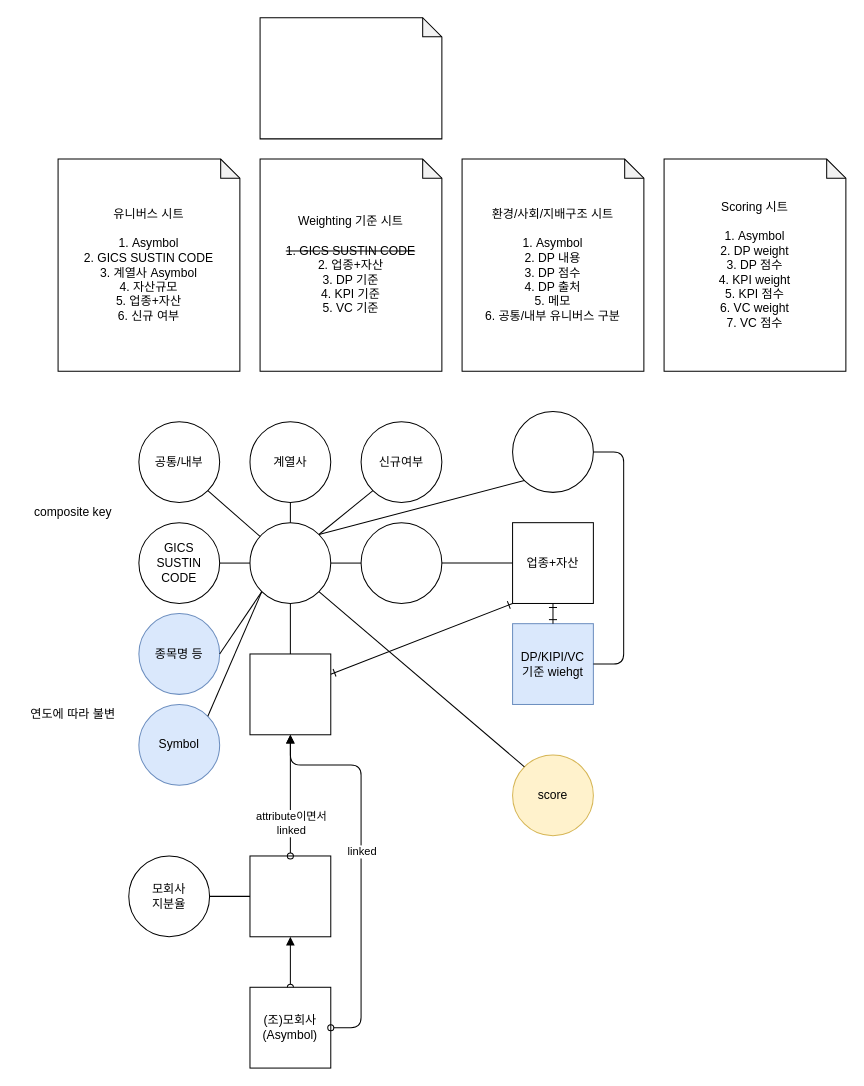
Image size: 864x1086. Some labels were removed from this diagram. Here are the shapes that lost their labels. From the top down, the centre of each, then its label:
At [350,78]: "Weighting 시트 1.Asymbol 2. 업종+자산 3. DP/KPI/VC weight".
At [552,451]: "상장시기 (G weight)".
At [290,562]: "기준연도".
At [401,562]: "자산규모".
At [290,694]: "Asymbol".
At [290,896]: "모회사 (Asymbol)".
